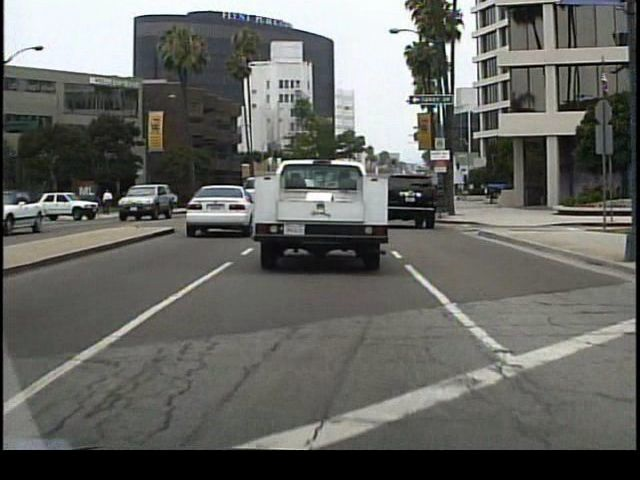person: (132, 182, 148, 213), (103, 185, 115, 218), (95, 187, 96, 212)
